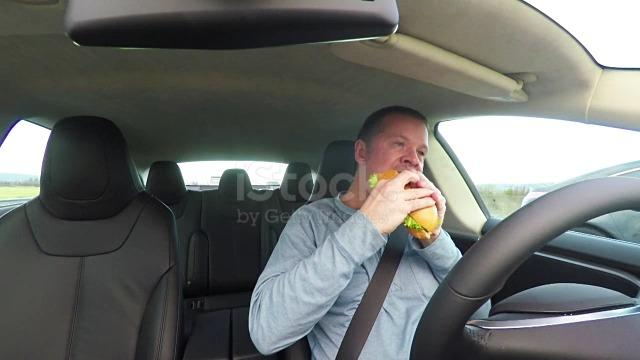Eating: (327, 87, 466, 254)
